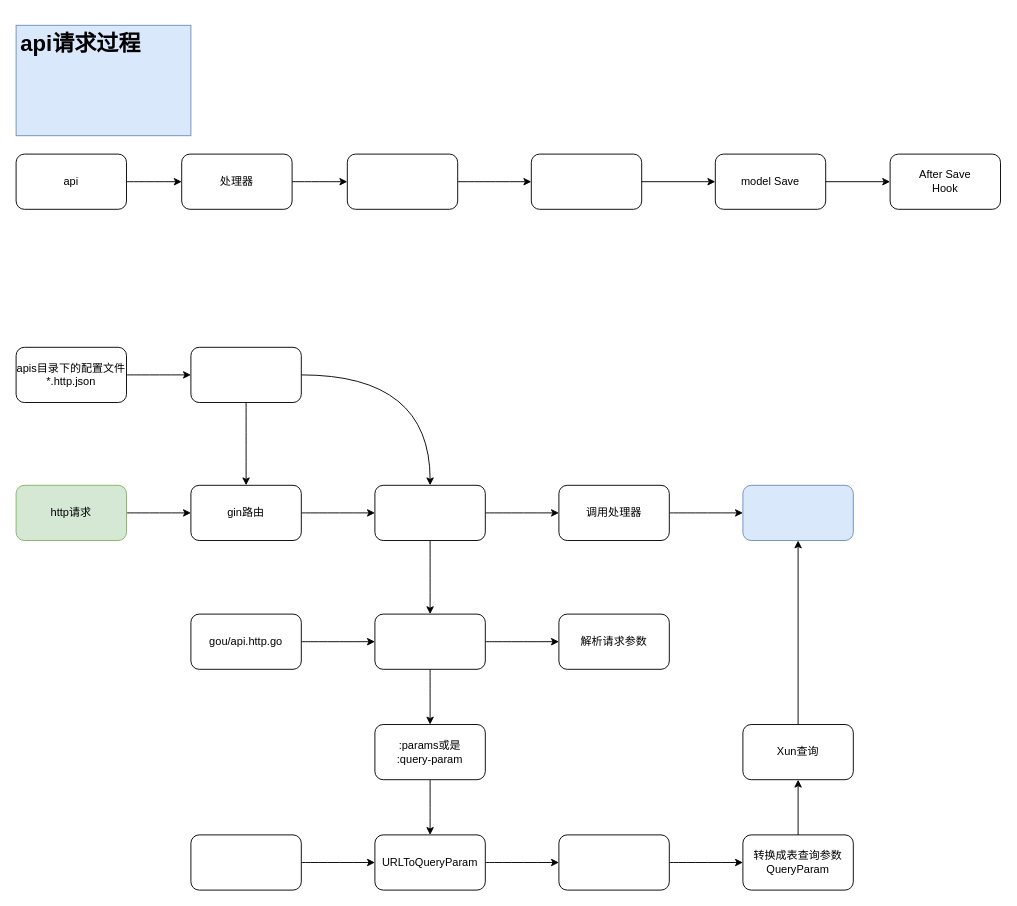
The diagram is 1017 pixels wide and 906 high, and some of its shapes have lost their labels. The box of each missing label's shape, as (x1, y1, x2, y2) in pixels:
Before Save Hook: (530, 153, 642, 209)
gou/query.url.go: (190, 834, 301, 890)
parseIn: (374, 613, 485, 669)
table: (346, 153, 458, 209)
查询字符串 URL Query String: (558, 834, 669, 890)
请求参数: (374, 484, 485, 540)
转换成路由，注册路由: (190, 346, 301, 402)
输出结果: (742, 484, 853, 540)
